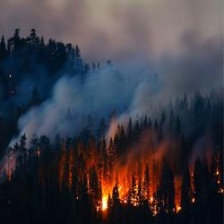fire: (97, 166, 146, 212)
smoke: (16, 9, 221, 139)
